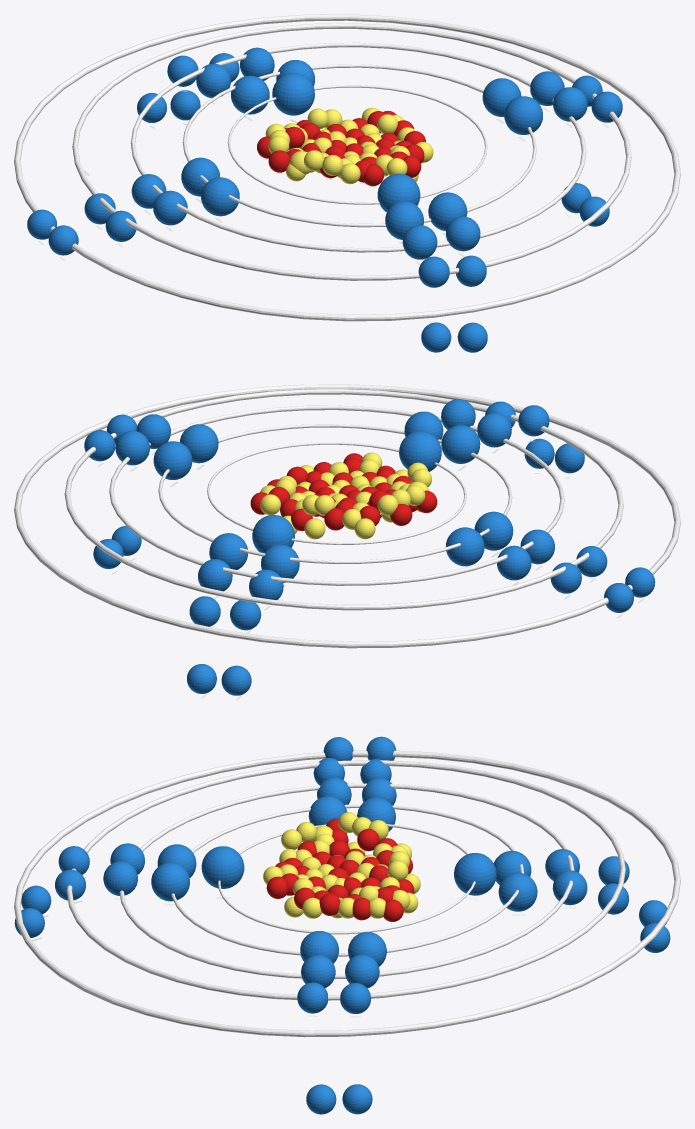
3 renders of one model, top to bottom at view 1: azimuth 30°, elevation 25°; view 2: azimuth 150°, elevation 25°; view 3: azimuth 270°, elevation 25°, orthographic.
Parts seen in each view (by area): view 1: Torus.005, Torus.004, Torus.003, Torus.002, Torus.001, g, g.005, g.003, g.001, g.008, g.007, g.006 (+24 smaller); view 2: Torus.005, Torus.004, Torus.003, Torus.002, Torus.001, g.001, g, g.006, g.004, g.002, g.003, g.005 (+26 smaller); view 3: Torus.005, Torus.004, Torus.003, Torus.002, g.001, g, Torus.001, g.007, g.009, g.015, g.005, g.012 (+24 smaller).
Part boxes in pixels (x1,y1,x2,y2): Torus.005: (14, 14, 680, 321); Torus.004: (72, 23, 631, 280); Torus.003: (130, 42, 586, 252); Torus.002: (182, 64, 536, 227); Torus.001: (228, 85, 487, 204); g: (272, 73, 314, 115); g.005: (504, 96, 542, 134); g.003: (201, 177, 239, 216); g.001: (377, 173, 420, 212); g.008: (231, 75, 269, 114); g.007: (428, 192, 467, 231); g.006: (385, 201, 423, 239); Torus.005: (14, 384, 680, 648); Torus.004: (64, 389, 623, 610); Torus.003: (109, 405, 564, 585); Torus.002: (158, 424, 512, 563); Torus.001: (207, 442, 466, 544); g.001: (399, 431, 441, 471); g: (252, 515, 294, 552); g.006: (441, 425, 480, 463); g.004: (153, 441, 192, 479); g.002: (446, 527, 484, 566); g.003: (474, 511, 513, 550); g.005: (179, 424, 218, 463); Torus.005: (14, 750, 680, 1037); Torus.004: (66, 760, 625, 1000); Torus.003: (119, 783, 574, 978); Torus.002: (171, 804, 524, 956); g.001: (201, 846, 244, 888); g: (454, 853, 496, 895); Torus.001: (218, 824, 475, 934); g.007: (151, 862, 189, 901); g.009: (498, 872, 537, 911); g.015: (103, 861, 137, 895); g.005: (300, 931, 338, 963); g.012: (345, 954, 379, 988).
Bounding box in the file's own units: 15.77 × 3.98 × 15.42.
